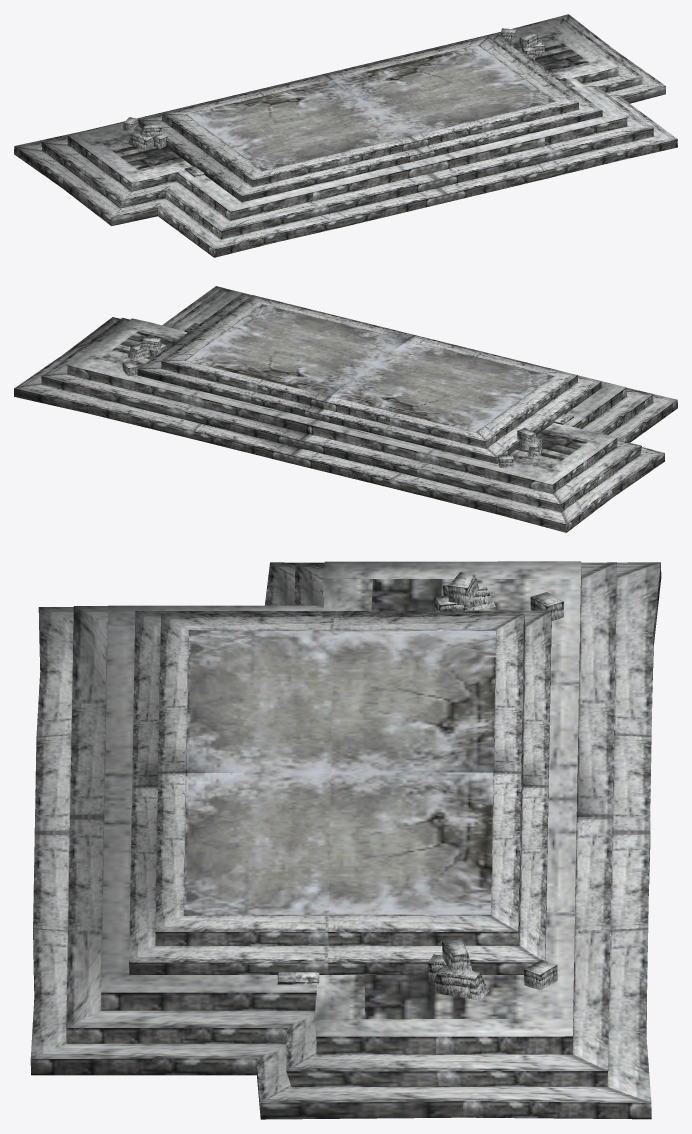
Rendered from S_Build_Snowland153.FBX.
3 views of the same model, one above another, from view 1: azimuth 30°, elevation 25°; view 2: azimuth 150°, elevation 25°; view 3: azimuth 270°, elevation 25° (orthographic). The views are drawn at different scales.
Parts seen in each view (by area): view 1: S_Build_Snowland153; view 2: S_Build_Snowland153; view 3: S_Build_Snowland153.
Boxes of the visible parts, box(x1,y1,x2,y2) form: S_Build_Snowland153: box(14, 14, 677, 257); S_Build_Snowland153: box(14, 286, 677, 532); S_Build_Snowland153: box(30, 561, 661, 1119).
Size of the model in its own units: 1270 by 627 by 96.55.
